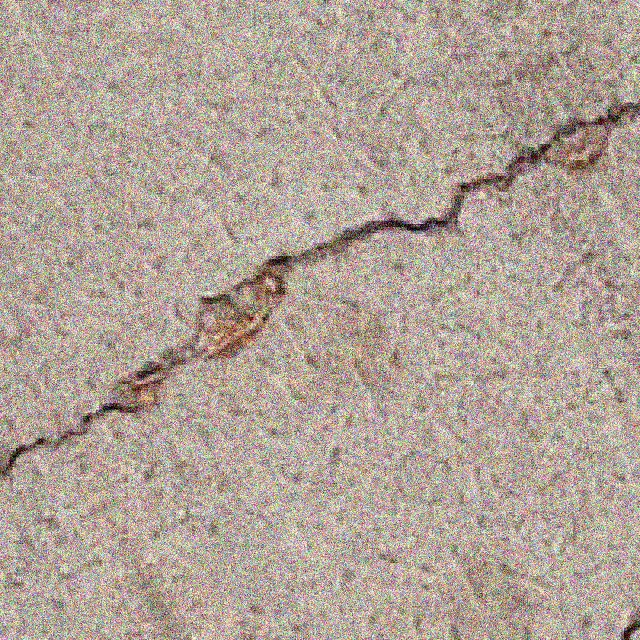SurfaceCrack: (0, 78, 636, 480)
